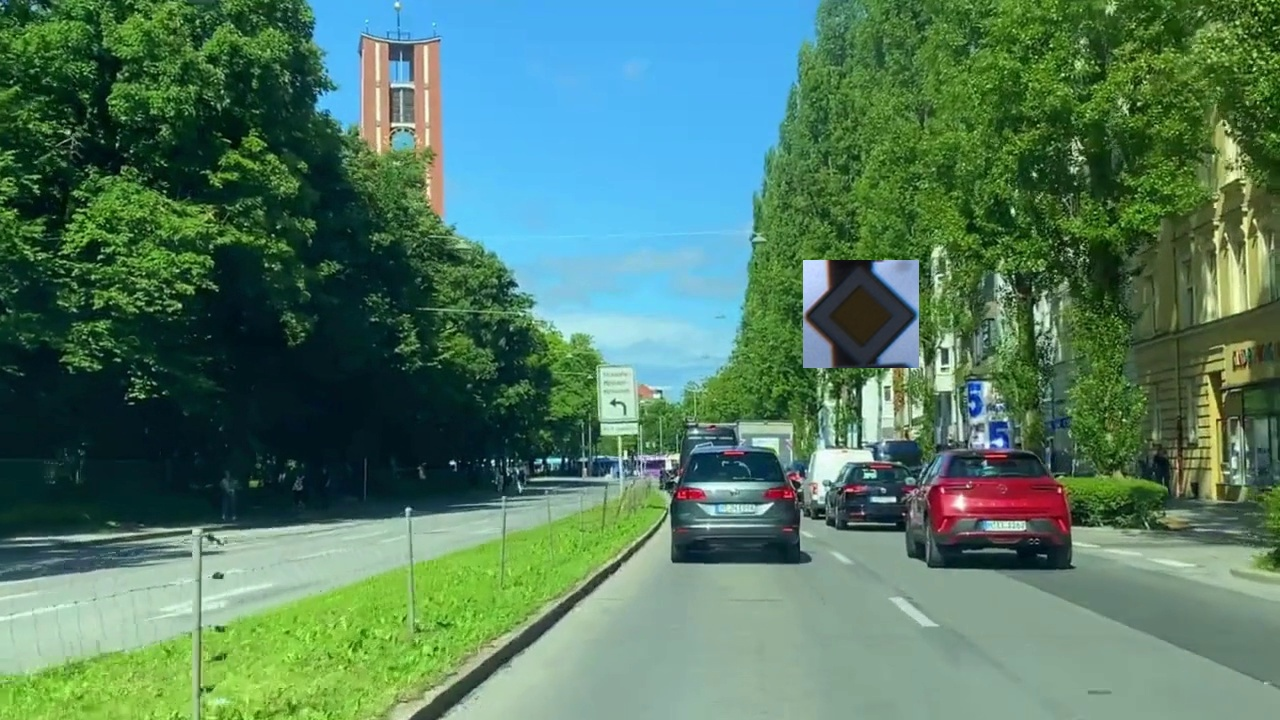Priority road: (803, 260, 919, 368)
